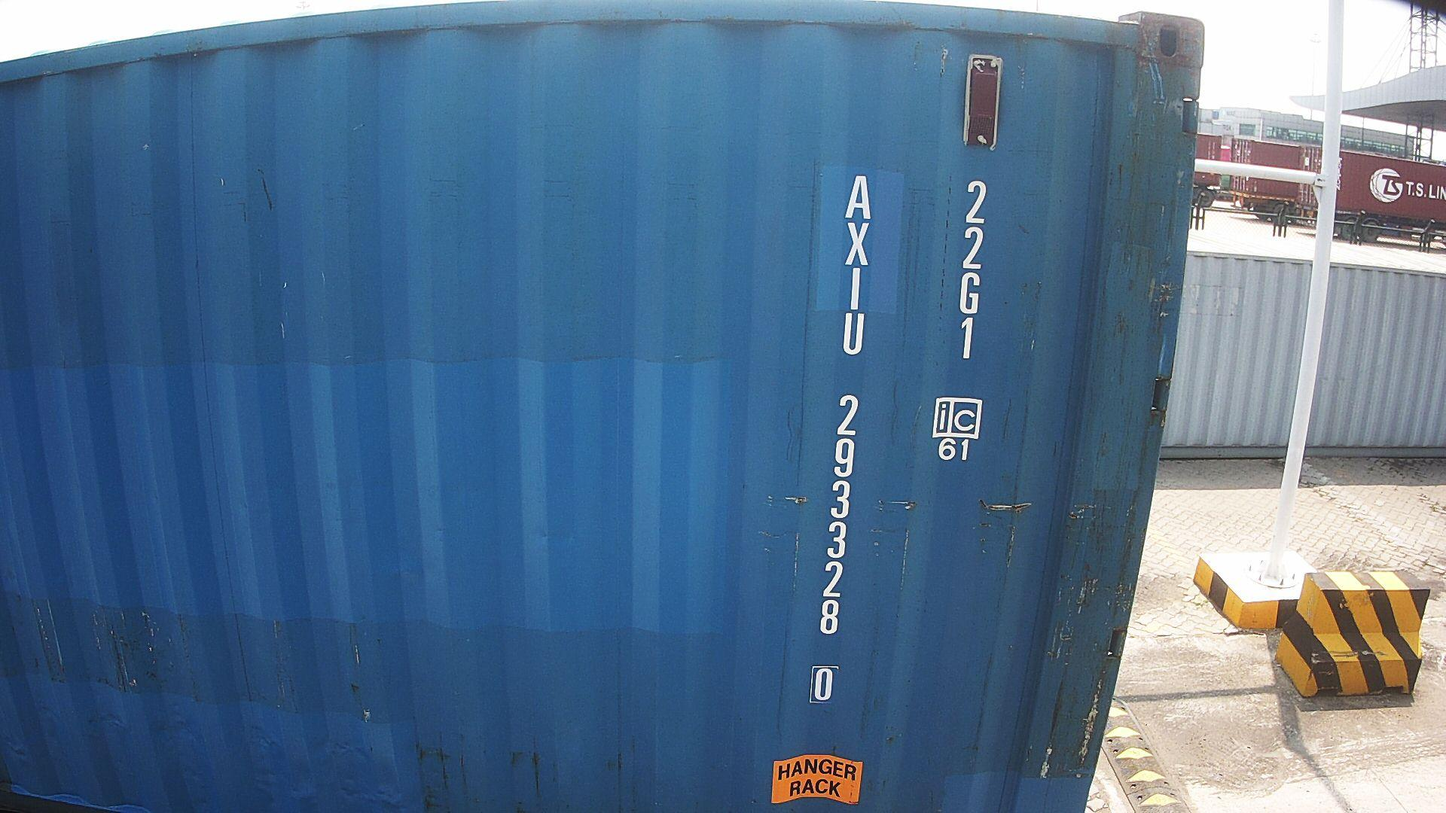container-numbers: (807, 171, 877, 707), (950, 176, 993, 364)
